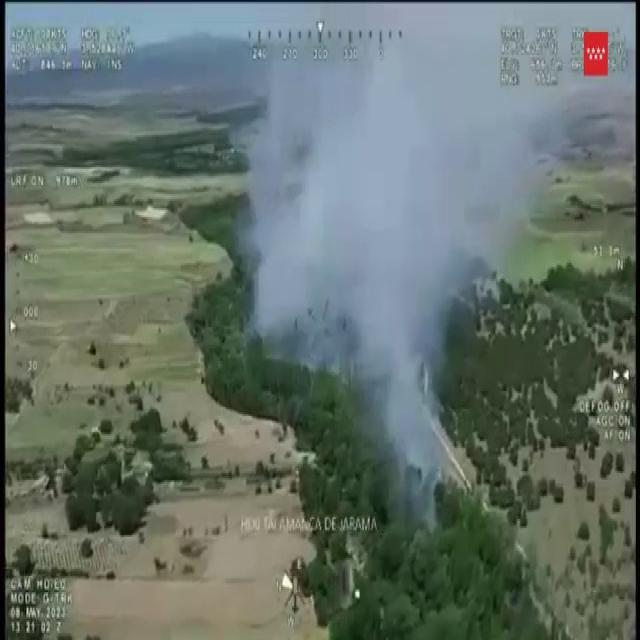smoke: (236, 3, 592, 406)
